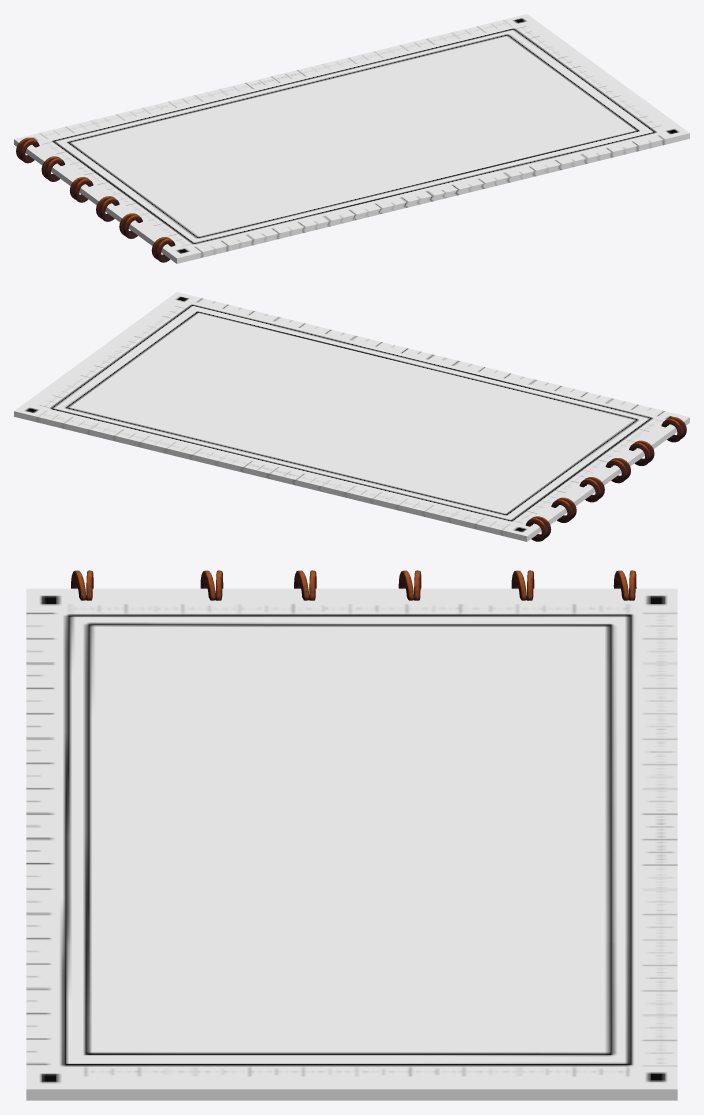
The model's file is level_select_book.glb.
The picture shows the model from 3 angles, top to bottom: view 1: azimuth 30°, elevation 25°; view 2: azimuth 150°, elevation 25°; view 3: azimuth 270°, elevation 25°; orthographic projection. The views are drawn at different scales.
Visible parts, largest first — view 1: Clipboard; view 2: Clipboard; view 3: Clipboard.
Part boxes in pixels (bbox=[...]): Clipboard: bbox=[14, 14, 689, 263]; Clipboard: bbox=[14, 292, 689, 541]; Clipboard: bbox=[26, 570, 677, 1100].
Size of the model in its own units: 7.15 by 0.2968 by 3.86.
1 material, 1 textured.
